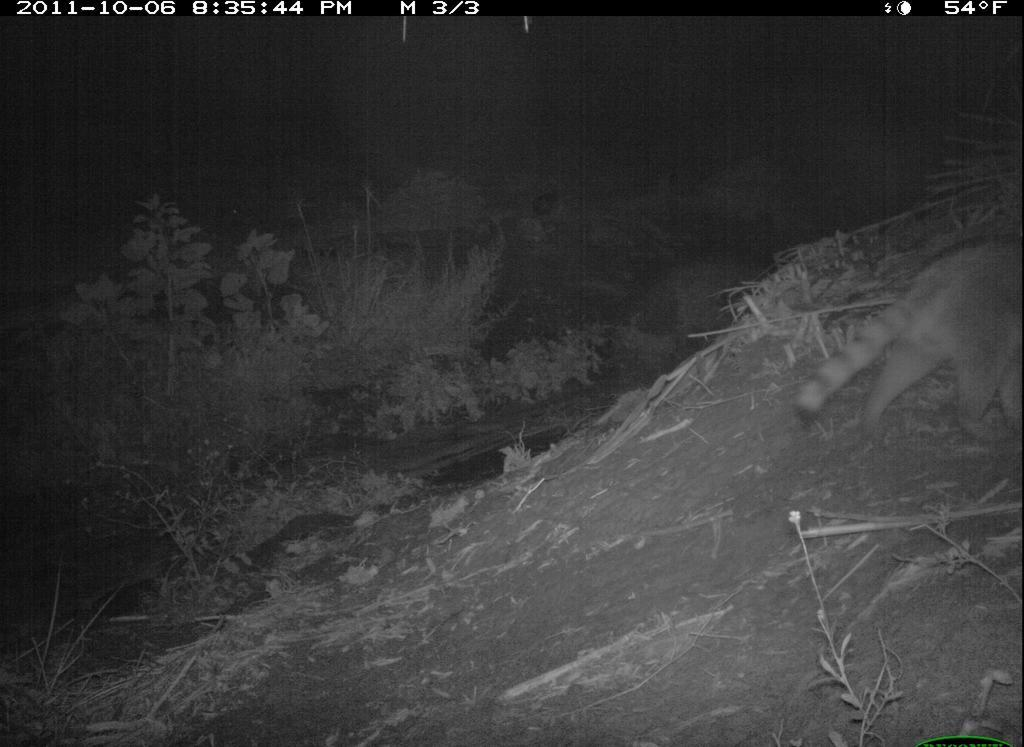raccoon: (785, 221, 1022, 457)
